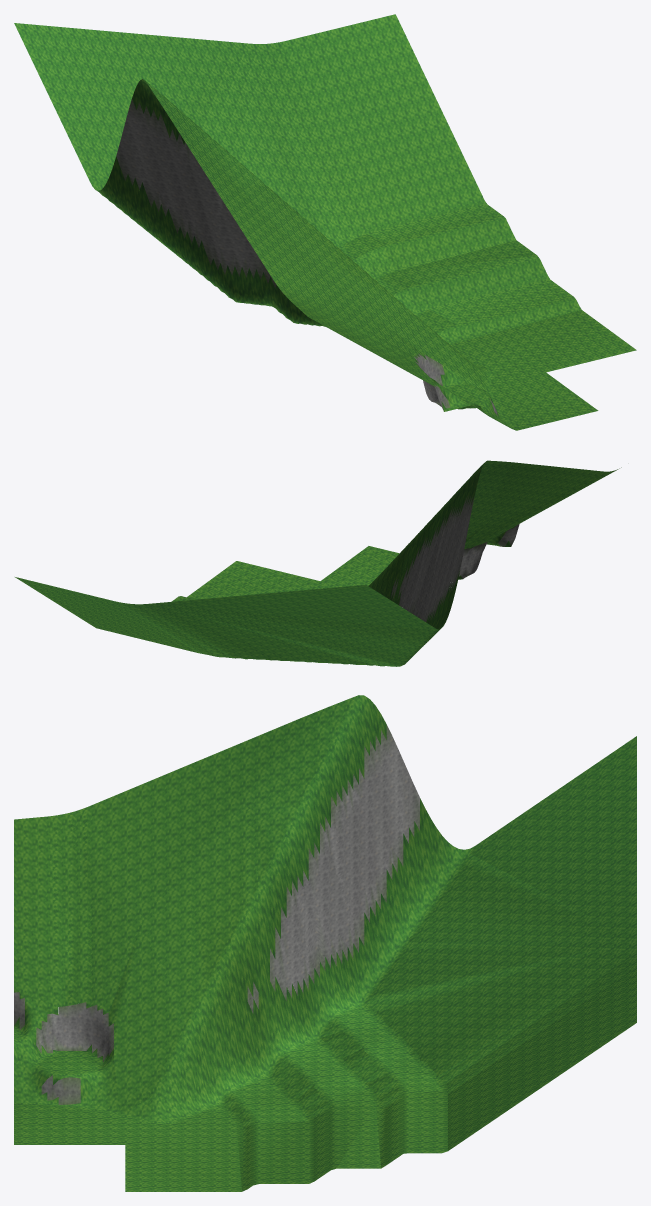
The model's file is payo_land_near_se_lod2.glb.
3 views of the same model, one above another, from view 1: azimuth 30°, elevation 25°; view 2: azimuth 150°, elevation 25°; view 3: azimuth 270°, elevation 25° (orthographic). The views are drawn at different scales.
Parts seen in each view (by area): view 1: payo_land_near_se; view 2: payo_land_near_se; view 3: payo_land_near_se.
Part boxes in pixels (x1,y1,x2,y2): payo_land_near_se: (14,14,636,430); payo_land_near_se: (15,460,621,666); payo_land_near_se: (14,695,636,1191).
Bounding box in the file's own units: 126 × 89.05 × 168.
2 materials, 2 textured.
